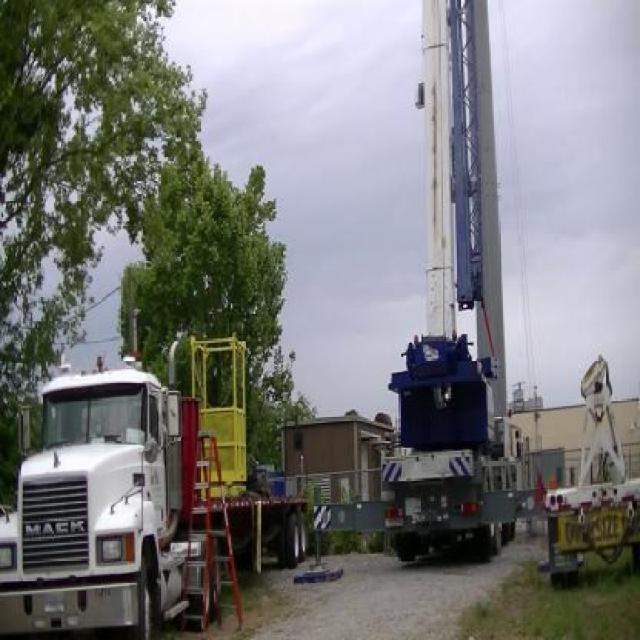Mobile Crane: (386, 0, 522, 554)
